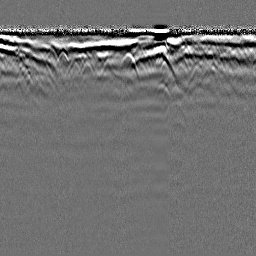cavity: (118, 52, 140, 77)
